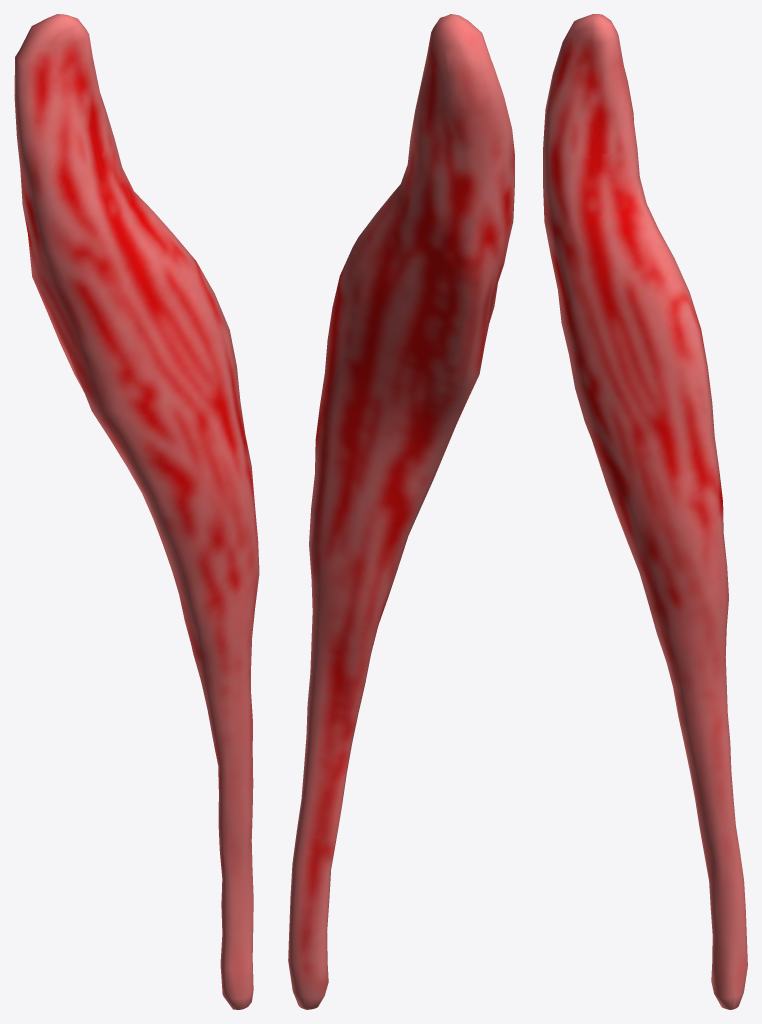
The model's file is Extensor_Carpi_Radialis.glb.
3 renders of one model, left to right at view 1: azimuth 30°, elevation 25°; view 2: azimuth 150°, elevation 25°; view 3: azimuth 330°, elevation 25°, orthographic. The views are drawn at different scales.
Parts seen in each view (by area): view 1: extensor_carpi_radialis1.003; view 2: extensor_carpi_radialis1.003; view 3: extensor_carpi_radialis1.003.
Part boxes in pixels (x1=…): extensor_carpi_radialis1.003: x1=14, y1=14, x2=259, y2=1009; extensor_carpi_radialis1.003: x1=288, y1=14, x2=514, y2=1009; extensor_carpi_radialis1.003: x1=543, y1=14, x2=747, y2=1009.
Size of the model in its own units: 0.1175 by 0.5138 by 0.0617.
Materials: 1 (1 with a texture image).
